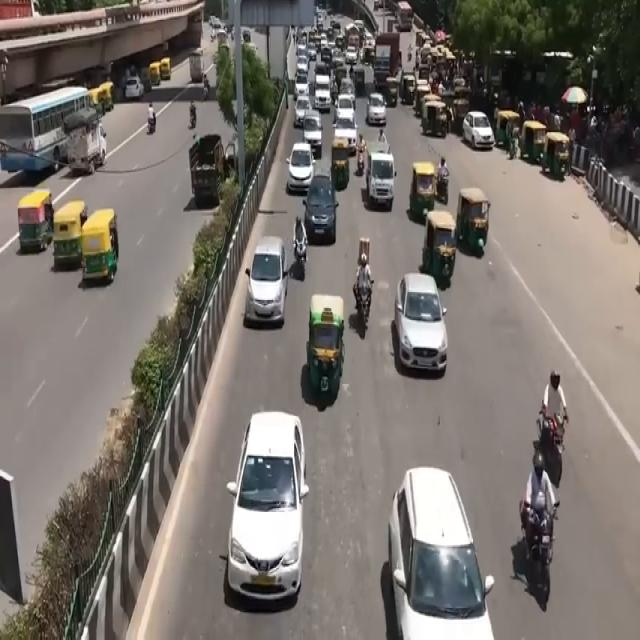BUS: (1, 89, 104, 188)
MOTORCYCLE: (531, 507, 559, 616), (548, 416, 570, 488), (356, 282, 372, 341)
